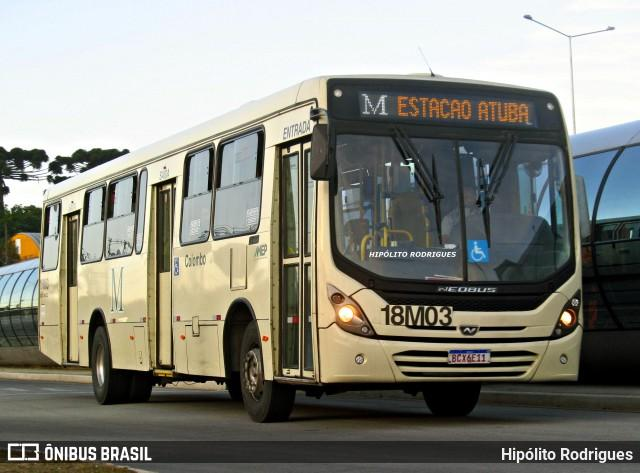ESTACAO ATUBA: (393, 93, 534, 127)
